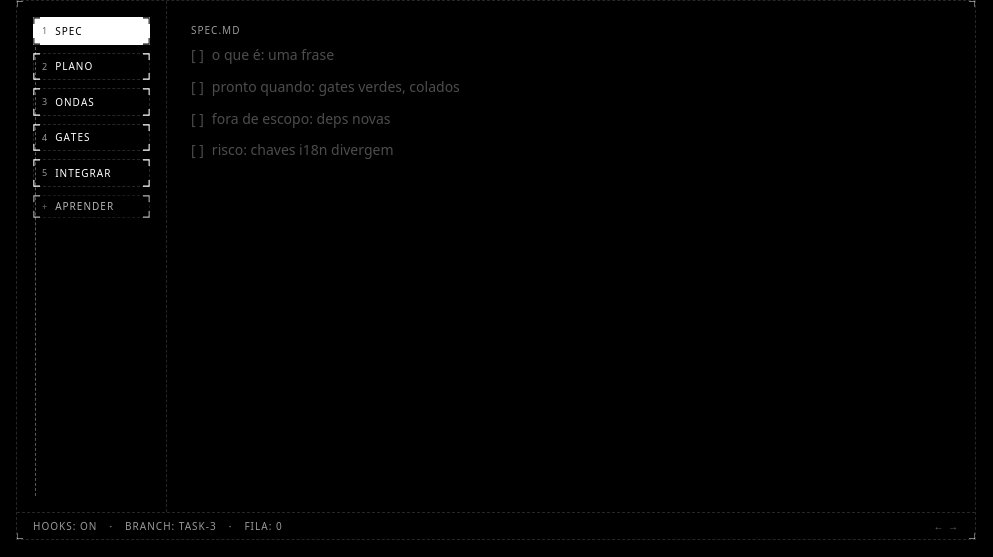
Test: KitDemo (vibe100coding kit) › clicking Gates activates it and shows the meta-gate row; Integrate bumps the queue
The width and height of the screenshot is (993, 557).
Step 1. Click the button "4 G a t e s" → click(92, 137), box left=33, top=124, right=150, bottom=151
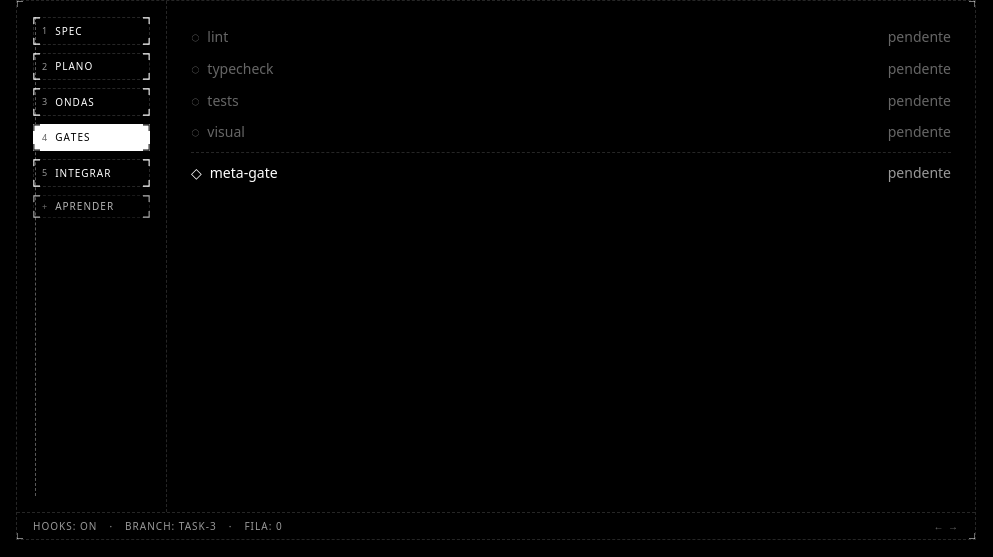
Expected: the text "meta-gate" is shown, left=210, top=161, right=278, bottom=185
Step 2. Click the button "5 I n t e g r a r" → click(92, 173), box left=33, top=159, right=150, bottom=186
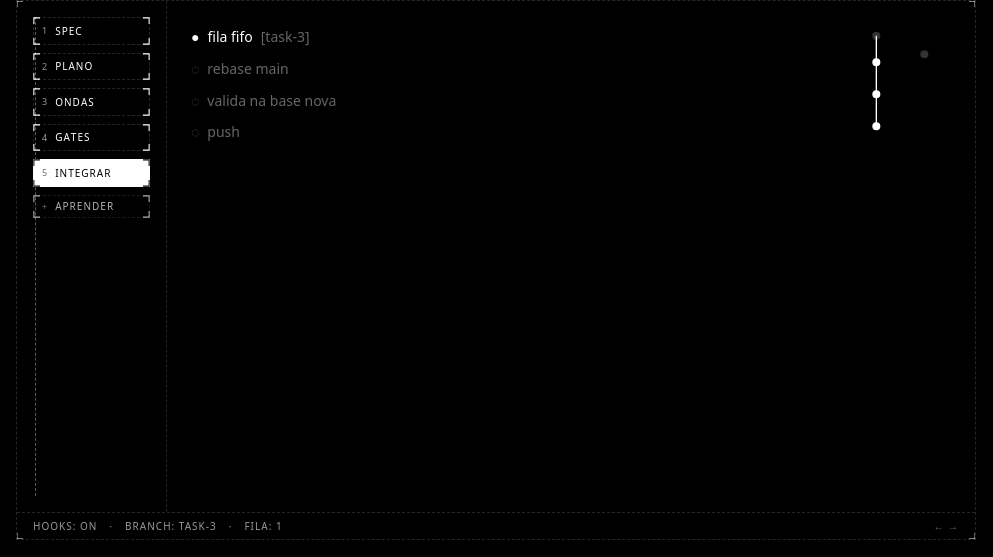
Expected: the element showing "hooks: on · branch: task-3 · fila: 1 ← →" is shown, left=17, top=512, right=975, bottom=539
